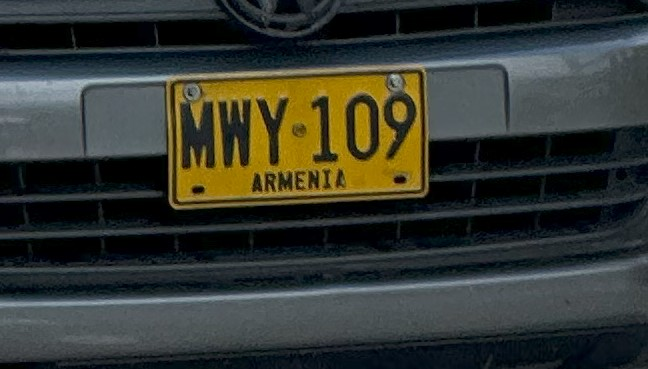number plate: (167, 67, 427, 208)
